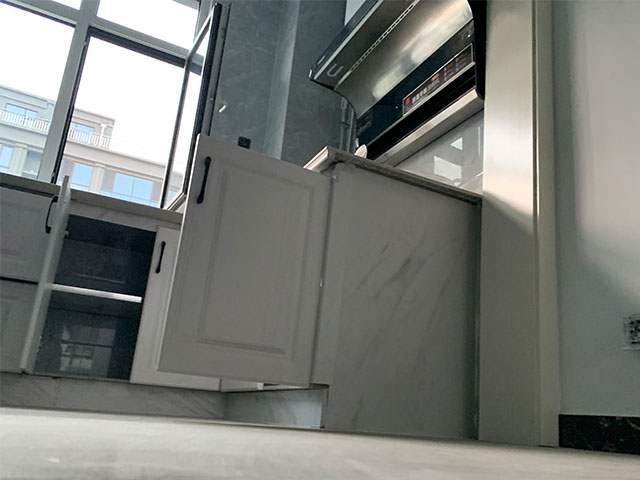cabinet: (307, 145, 482, 440), (1, 183, 205, 415)
